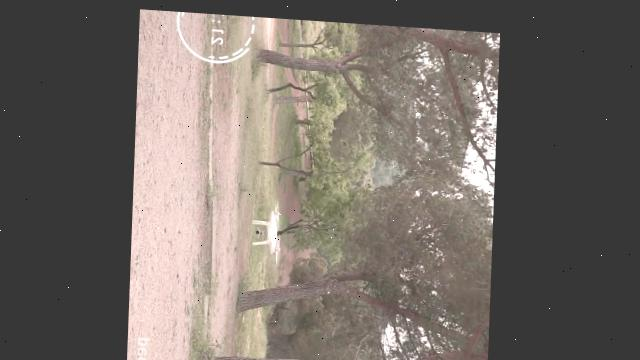drone: (250, 192, 285, 260)
